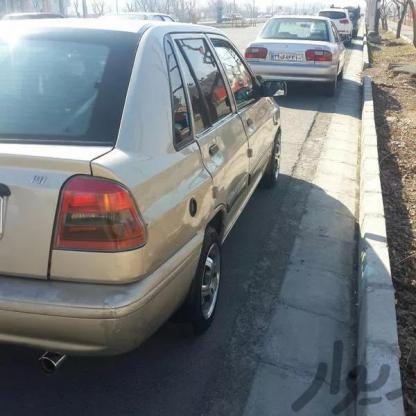Car: (0, 11, 288, 373), (246, 17, 357, 108), (307, 2, 368, 48)
